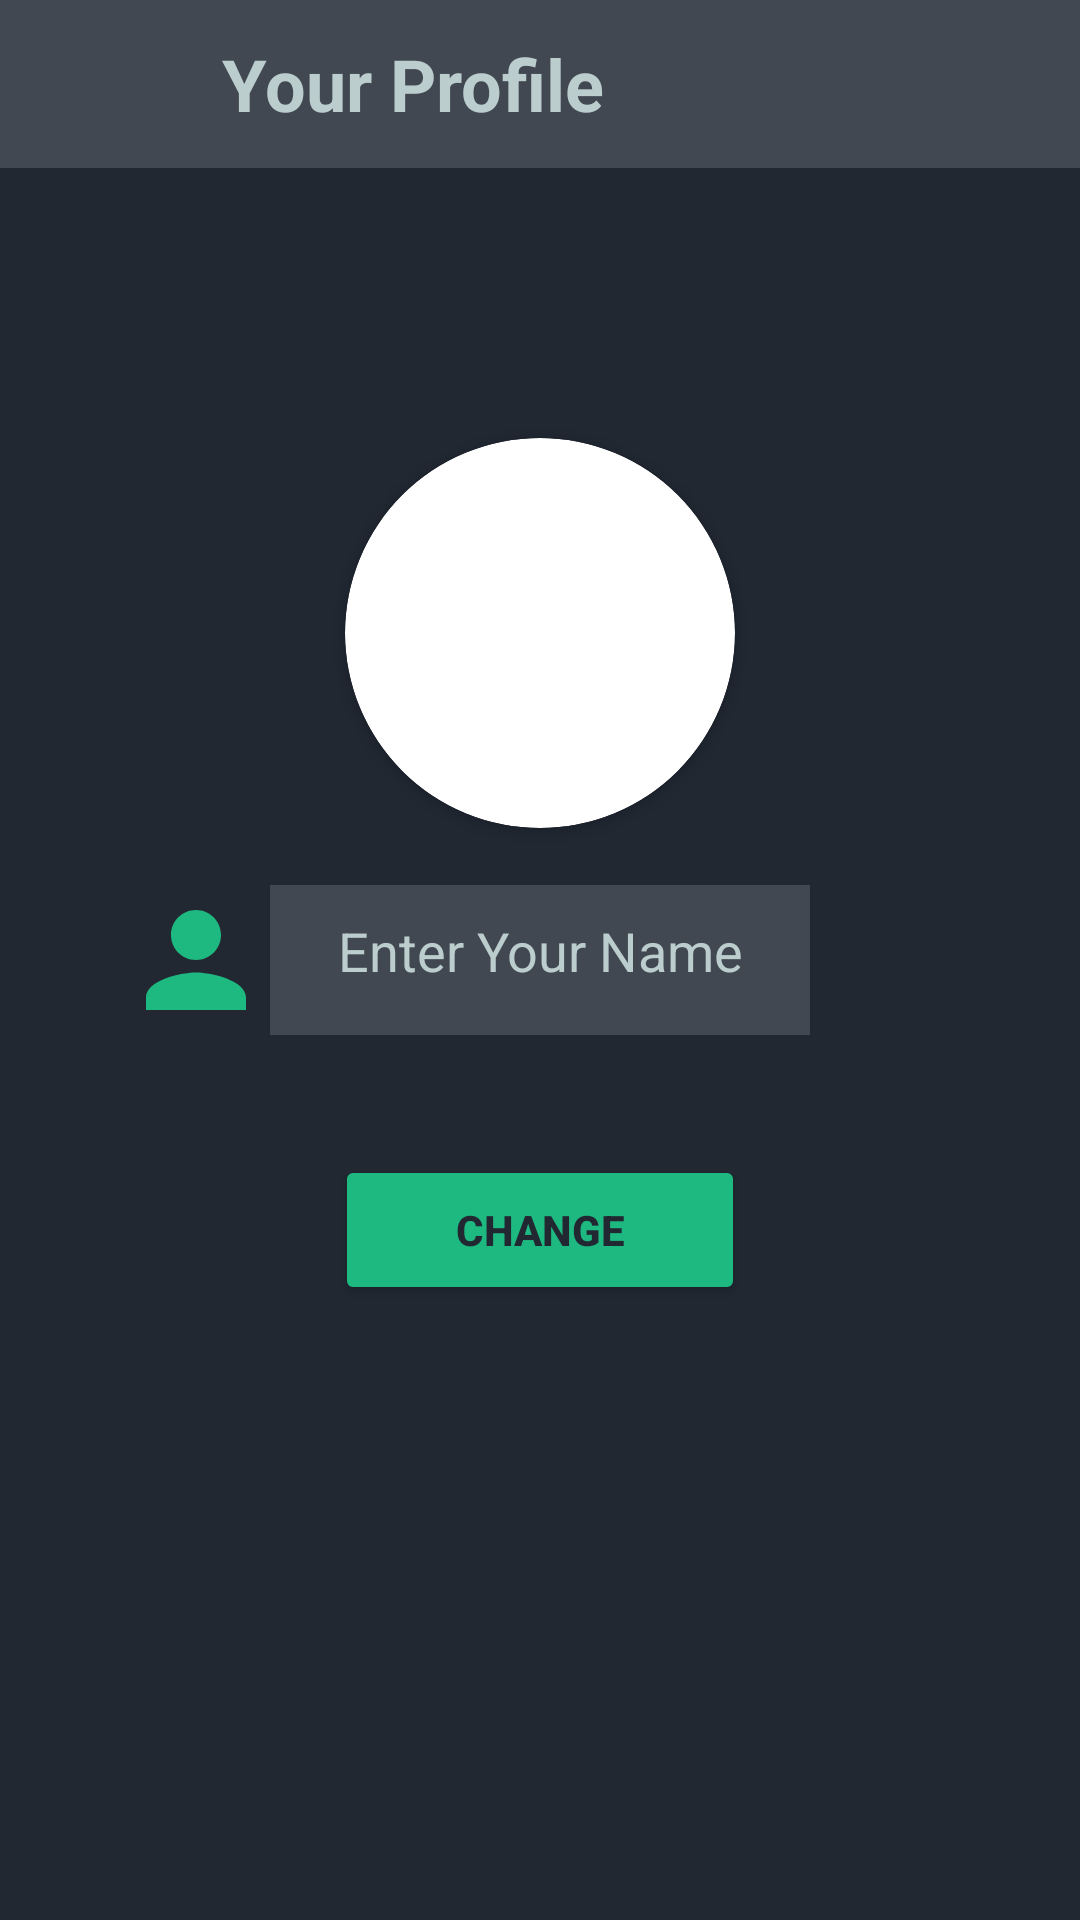

Named icons in this screenshot (1080×1920) and their centers, (x=x, y=y):
person: (x=196, y=960)
